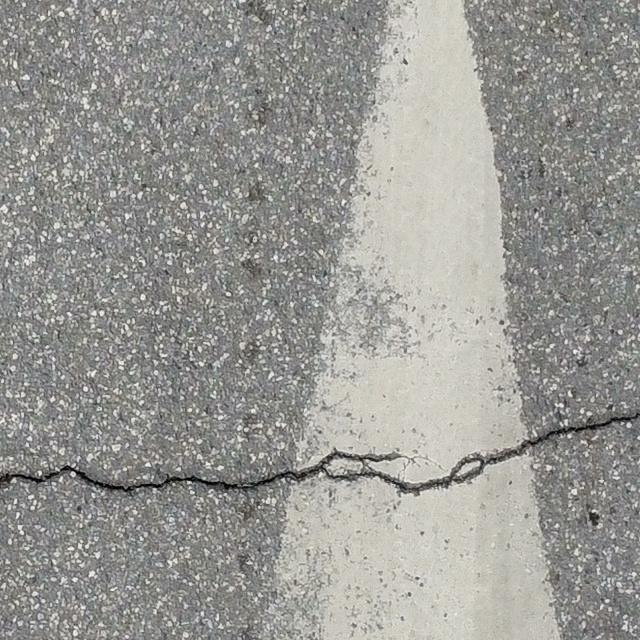TransverseCrack: (1, 410, 640, 496)
